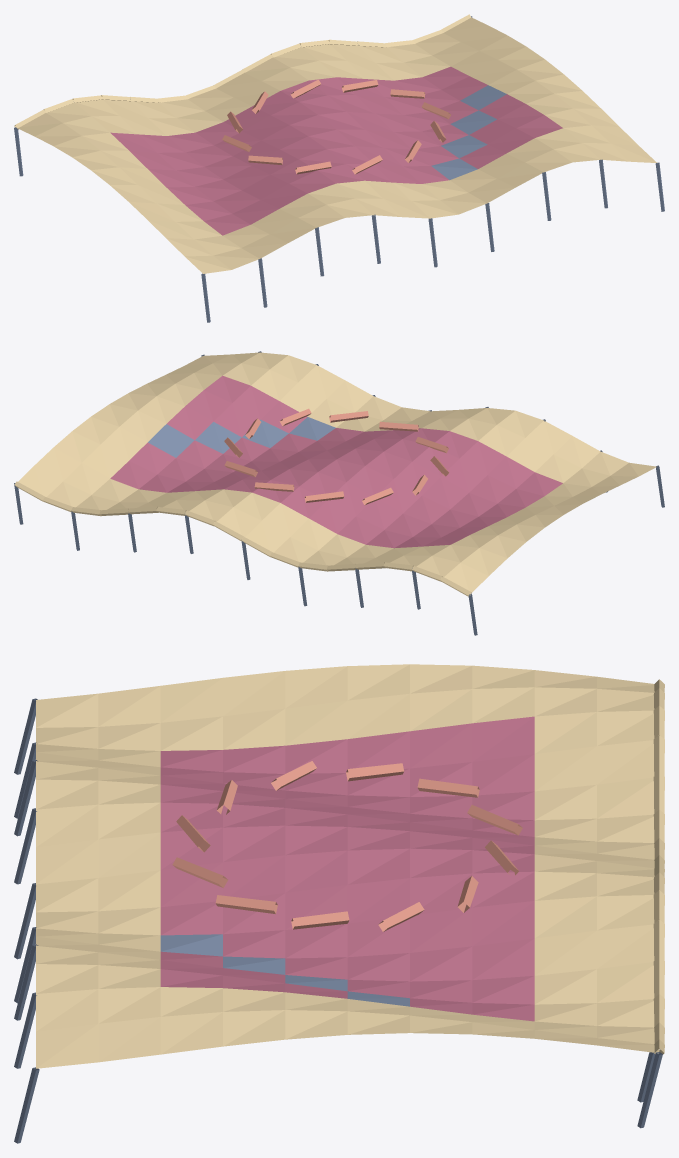
The model's file is carpet.glb.
The picture shows the model from 3 angles, top to bottom: view 1: azimuth 30°, elevation 25°; view 2: azimuth 150°, elevation 25°; view 3: azimuth 270°, elevation 25°; orthographic projection. The views are drawn at different scales.
Visible parts, largest first — view 1: carpet; view 2: carpet; view 3: carpet.
Part boxes in pixels (x1,y1,x2,y2): carpet: (14,14,664,322); carpet: (14,351,664,635); carpet: (14,664,664,1143).
Size of the model in its own units: 1.41 by 0.2182 by 1.04.
